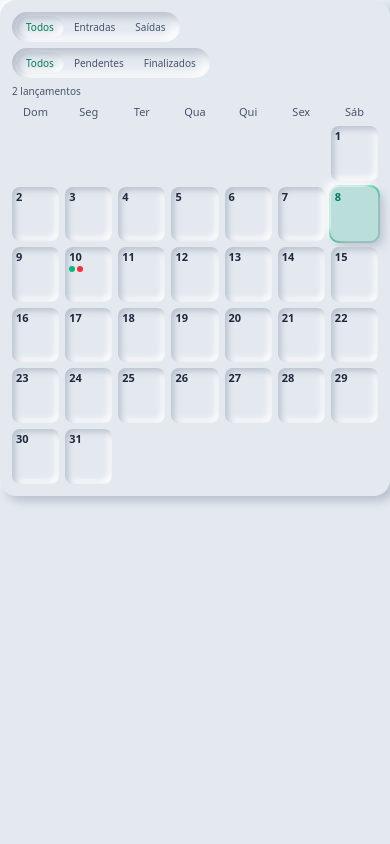
Test: CalendarView › combina filtros de tipo e status (sem resultados mostra o aviso)
Step 1. Click the button "Saídas" → [150, 27], box [125,16,176,38]
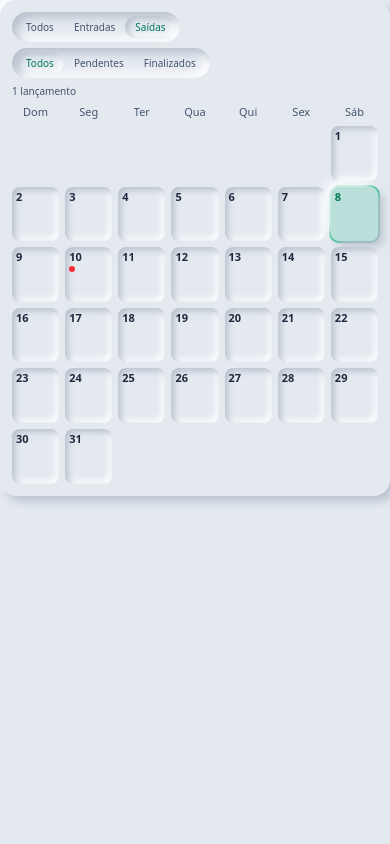
Step 2. Click the button "Finalizados" → [170, 63], box [134,52,206,74]
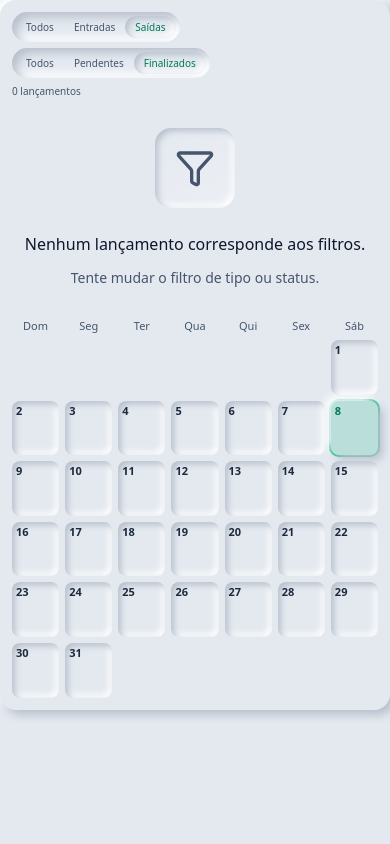
Now the text "0 lançamentos" is shown, box [12,84,81,98]
Now the heading "Nenhum lançamento corresponde aos filtros." is shown, box [25,232,365,256]
